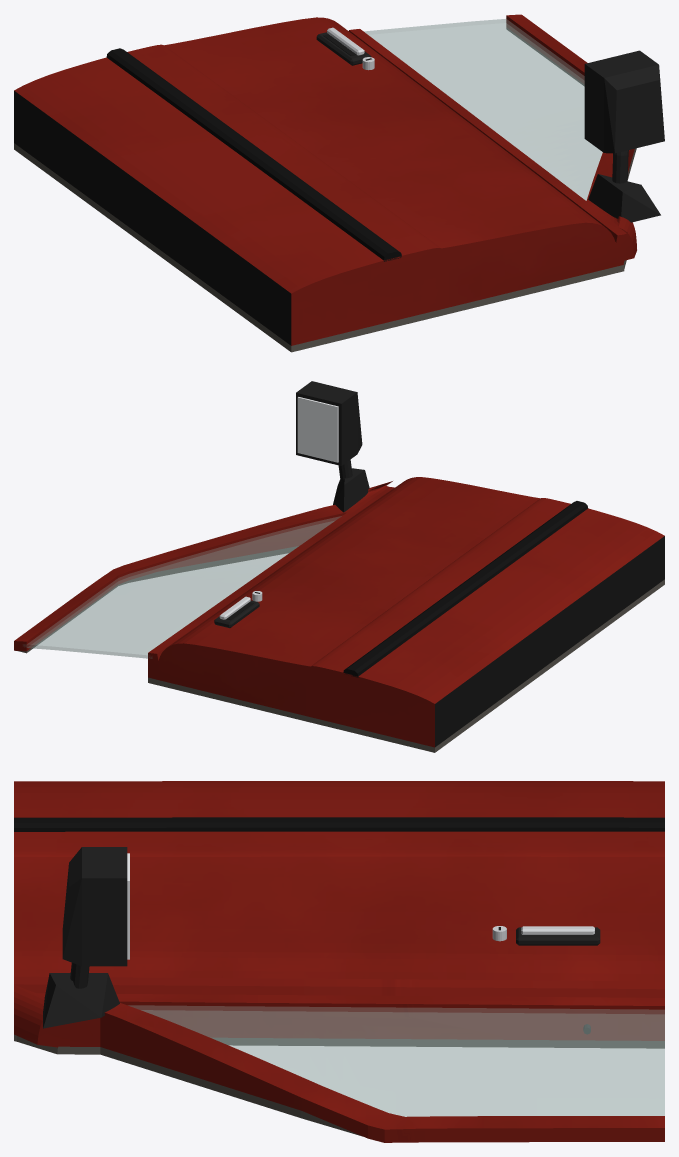
Rendered from porta_dianteira_d_picape.glb.
3 views of the same model, one above another, from view 1: azimuth 30°, elevation 25°; view 2: azimuth 150°, elevation 25°; view 3: azimuth 270°, elevation 25° (orthographic). The views are drawn at different scales.
Parts seen in each view (by area): view 1: porta_dianteira_d_picape_pintura, porta_dianteira_d_picape_vidro, porta_dianteira_d_picape_chassi, porta_dianteira_d_picape_1_plastico_preto, porta_dianteira_d_picape_borracha, porta_dianteira_d_picape_forro_porta, porta_dianteira_d_picape_cromado, porta_dianteira_d_picape_plastico_preto; view 2: porta_dianteira_d_picape_pintura, porta_dianteira_d_picape_vidro, porta_dianteira_d_picape_chassi, porta_dianteira_d_picape_forro_porta, porta_dianteira_d_picape_borracha, porta_dianteira_d_picape_1_plastico_preto, porta_dianteira_d_picape_1_espelho_retrovisor; view 3: porta_dianteira_d_picape_pintura, porta_dianteira_d_picape_vidro, porta_dianteira_d_picape_1_plastico_preto, porta_dianteira_d_picape_borracha, porta_dianteira_d_picape_forro_porta, porta_dianteira_d_picape_plastico_preto, porta_dianteira_d_picape_cromado.
Part boxes in pixels (x1,y1,x2,y2): porta_dianteira_d_picape_pintura: [14, 14, 636, 345]; porta_dianteira_d_picape_vidro: [364, 19, 602, 200]; porta_dianteira_d_picape_chassi: [14, 34, 371, 345]; porta_dianteira_d_picape_1_plastico_preto: [584, 50, 664, 222]; porta_dianteira_d_picape_borracha: [106, 48, 401, 261]; porta_dianteira_d_picape_forro_porta: [14, 27, 636, 352]; porta_dianteira_d_picape_cromado: [327, 27, 374, 70]; porta_dianteira_d_picape_plastico_preto: [316, 32, 371, 65]; porta_dianteira_d_picape_pintura: [14, 477, 664, 747]; porta_dianteira_d_picape_vidro: [23, 516, 341, 658]; porta_dianteira_d_picape_chassi: [226, 536, 664, 747]; porta_dianteira_d_picape_forro_porta: [18, 546, 664, 752]; porta_dianteira_d_picape_borracha: [343, 501, 587, 677]; porta_dianteira_d_picape_1_plastico_preto: [296, 381, 369, 512]; porta_dianteira_d_picape_1_espelho_retrovisor: [297, 397, 338, 462]; porta_dianteira_d_picape_pintura: [14, 781, 664, 1142]; porta_dianteira_d_picape_vidro: [129, 1005, 664, 1116]; porta_dianteira_d_picape_1_plastico_preto: [43, 847, 127, 1028]; porta_dianteira_d_picape_borracha: [14, 817, 664, 831]; porta_dianteira_d_picape_forro_porta: [14, 1034, 664, 1136]; porta_dianteira_d_picape_plastico_preto: [516, 927, 600, 1034]; porta_dianteira_d_picape_cromado: [492, 926, 594, 941].
Size of the model in its own units: 1.06 by 0.3945 by 1.
10 materials, 1 textured.
